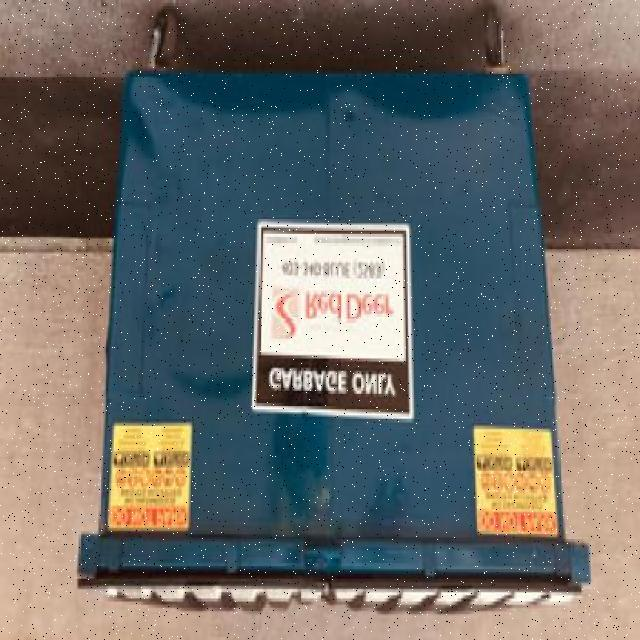garbage container: (76, 5, 604, 619)
